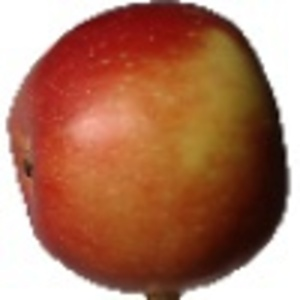maçã braeburn: (3, 1, 294, 294)
